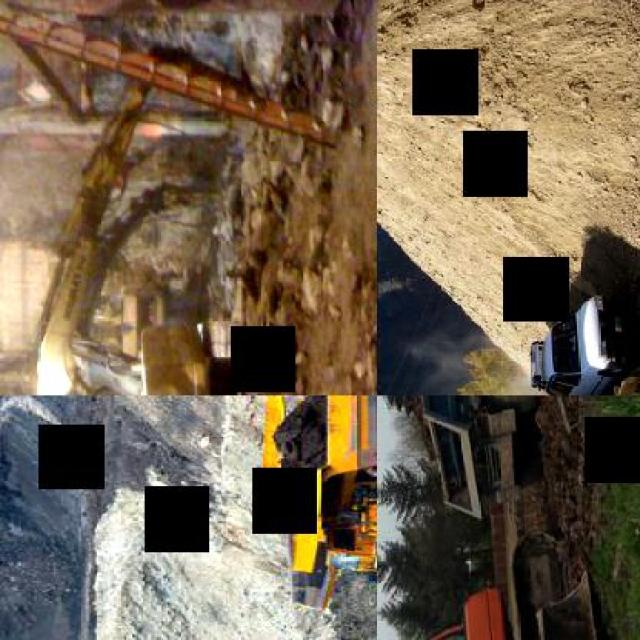dump_truck: (263, 395, 375, 611)
excavator: (29, 74, 277, 394), (377, 396, 623, 638), (68, 178, 243, 394)
